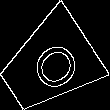O_SW: (17, 32, 80, 97)
